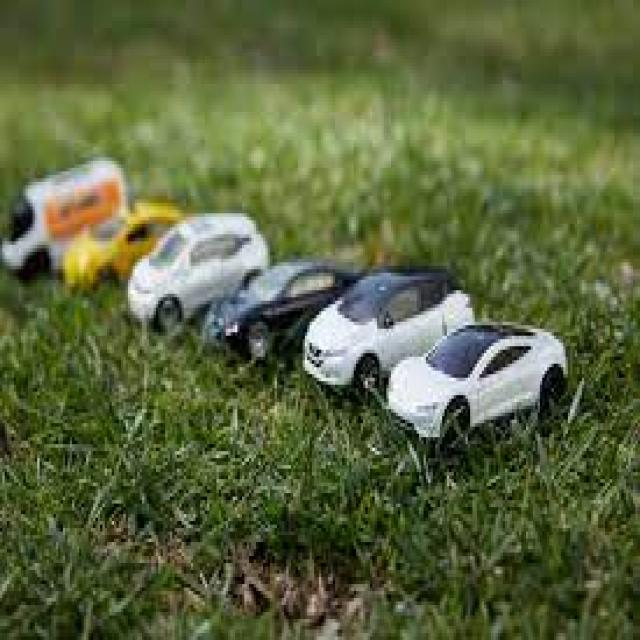Car: (384, 318, 568, 455), (300, 262, 475, 399), (200, 255, 363, 368), (126, 210, 270, 336)
